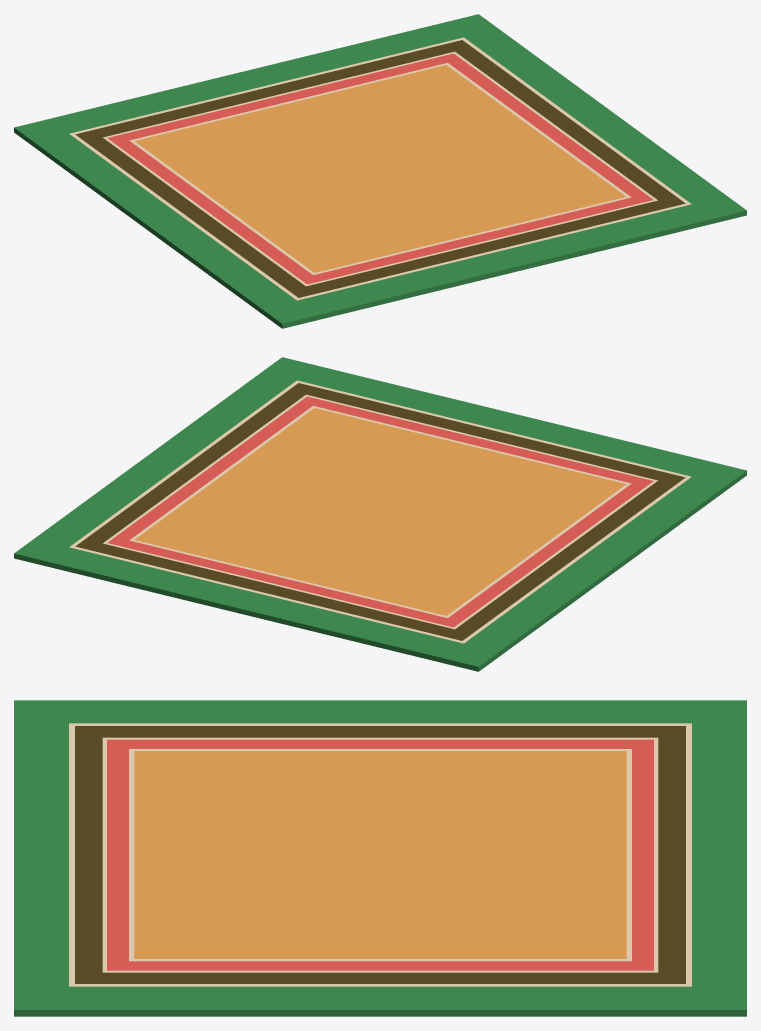
The model's file is SquareCarpet.fbx.
3 renders of one model, top to bottom at view 1: azimuth 30°, elevation 25°; view 2: azimuth 150°, elevation 25°; view 3: azimuth 270°, elevation 25°, orthographic. The views are drawn at different scales.
Visible parts, largest first — view 1: Cube; view 2: Cube; view 3: Cube.
Boxes of the visible parts, <box> form: Cube: <box>14,14,746,328</box>; Cube: <box>14,357,746,671</box>; Cube: <box>14,700,746,1016</box>.
Bounding box in the file's own units: 1188 × 1188 × 12.16.
